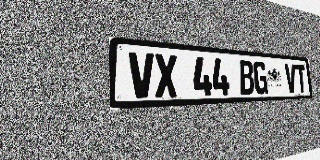4: (192, 56, 213, 96), (211, 58, 230, 96)
B: (238, 60, 255, 95)
G: (253, 61, 268, 94)
T: (295, 64, 307, 93)
V: (128, 51, 155, 98), (284, 63, 297, 93)
X: (154, 53, 178, 98)
